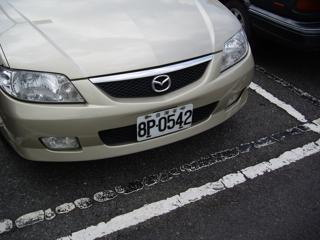plate: (135, 106, 193, 137)
